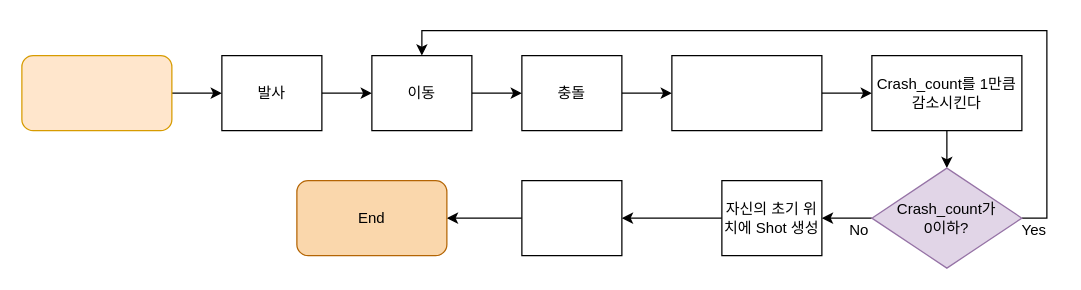
The diagram is 1081 pixels wide and 290 high, and some of its shapes have lost their labels. The shapes that lost their labels are listed below. From the top down, each one's centre as x and y in pixels, then its label:
At (x=96, y=92): "Start".
At (x=746, y=92): "충돌하는 오브젝트에 따라서 다양한 처리".
At (x=571, y=217): "자신을 제거".
